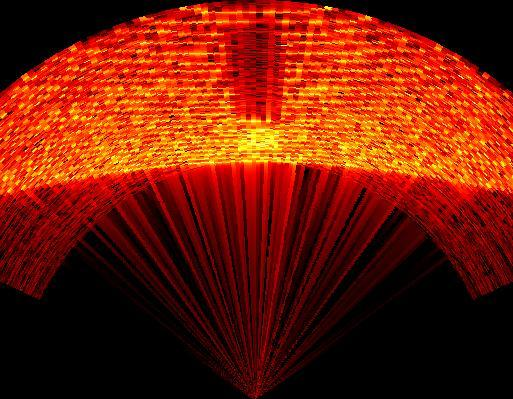box_crate: (223, 19, 286, 135)
